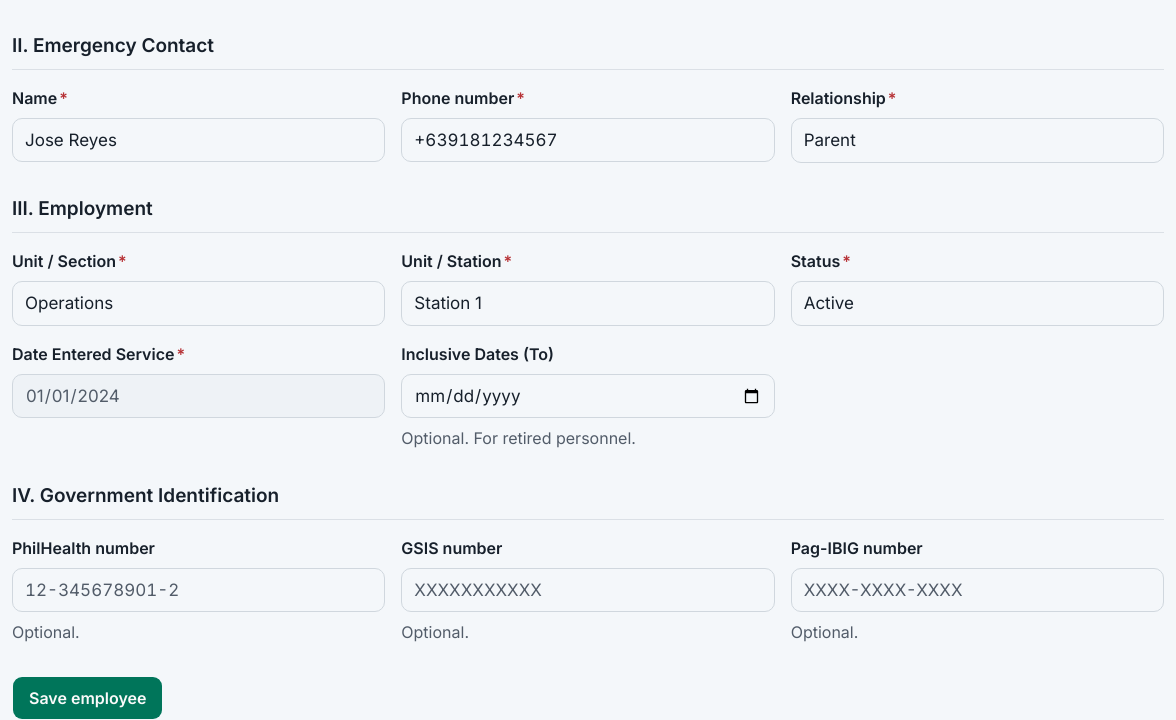
it: EmployeeForm › explains a GSIS number with the wrong number of digits
(page scrolled)
Type "12345" into the field labelled "GSIS number".
click(588, 590); type("12345")  # box [401,568,775,612]
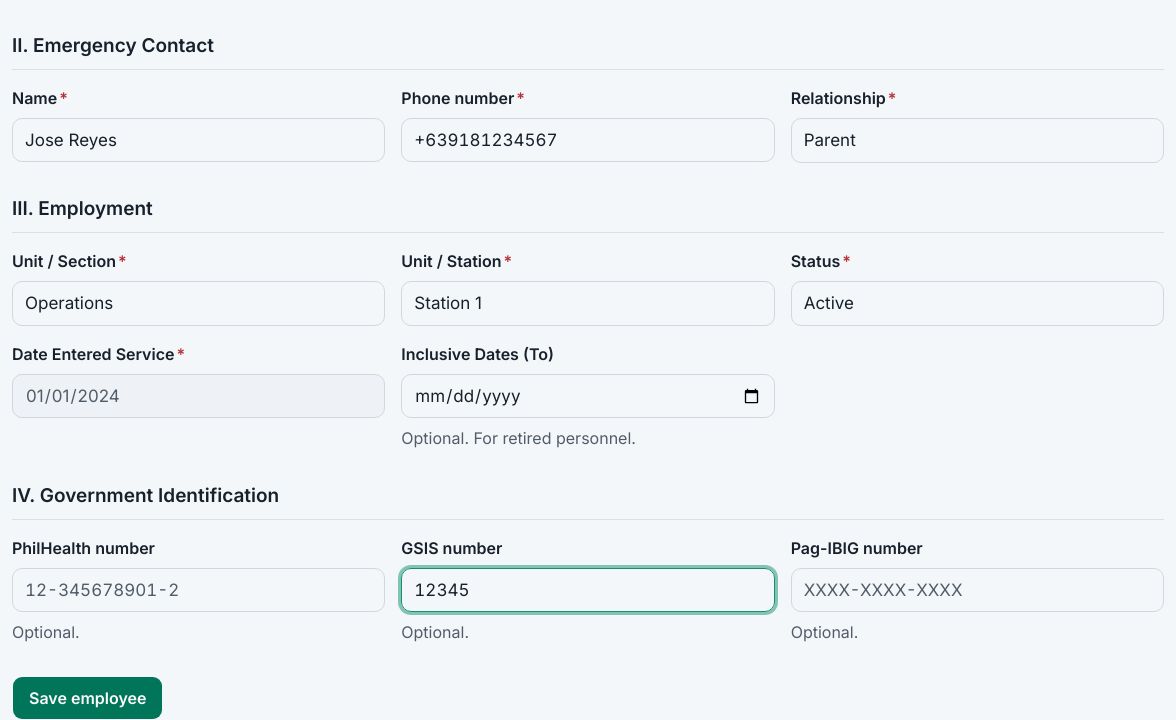
Click the button "Save employee".
click(88, 698)  # box [12,676,164,719]
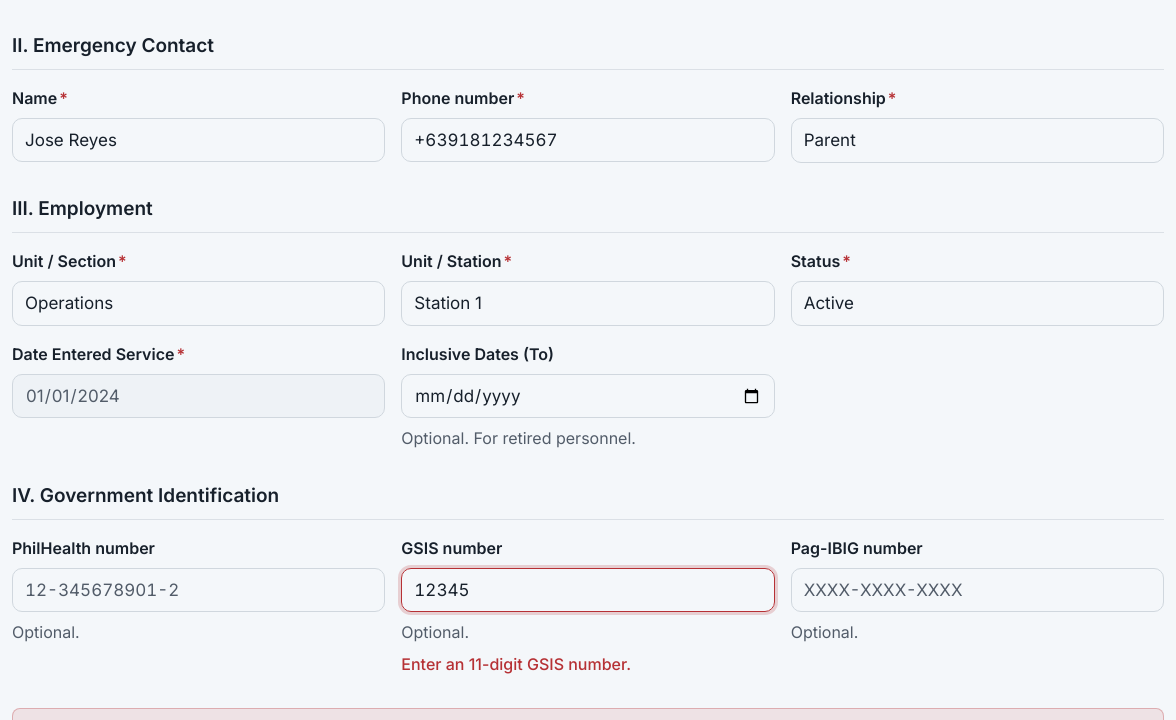
Now the text "Enter an 11-digit GSIS number." is shown, box [401,654,631,674]
